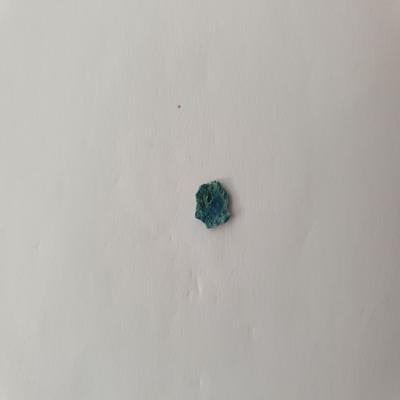plastic: (191, 176, 236, 232)
